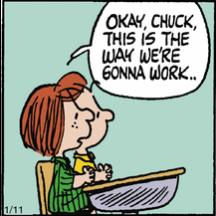charlie: (67, 80, 117, 216)
